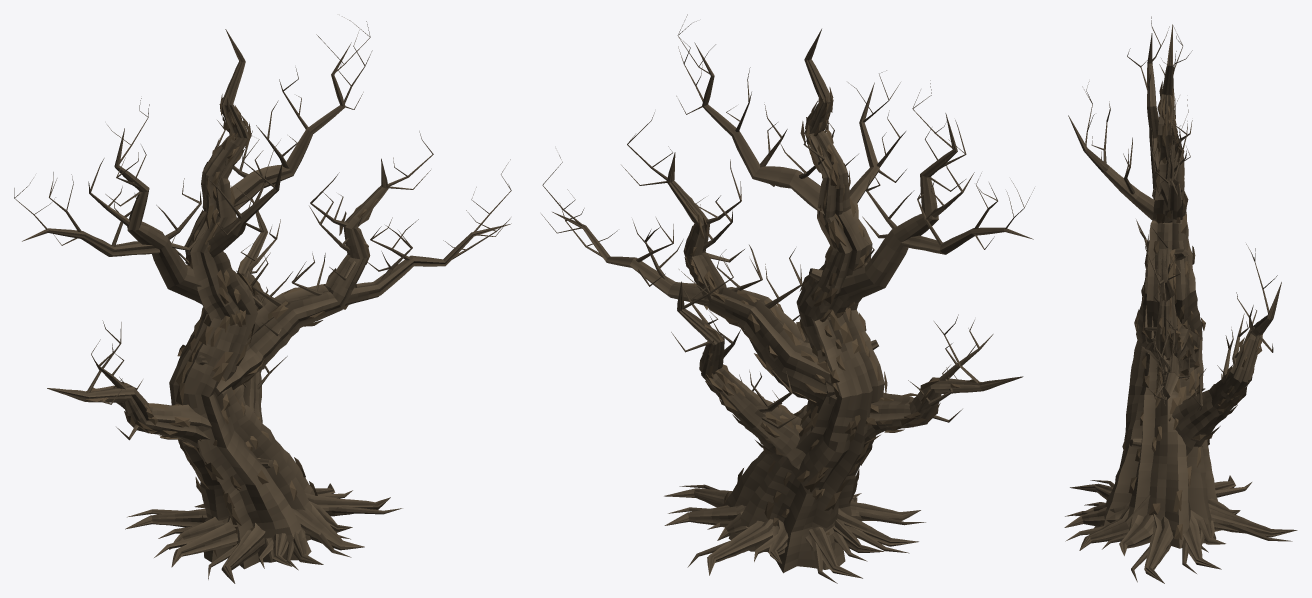
Rendered from tree.glb.
3 renders of one model, left to right at view 1: azimuth 30°, elevation 25°; view 2: azimuth 150°, elevation 25°; view 3: azimuth 270°, elevation 25°, orthographic. The views are drawn at different scales.
Visible parts, largest first — view 1: Sculpted bark roots and fine branches; view 2: Sculpted bark roots and fine branches; view 3: Sculpted bark roots and fine branches.
Part boxes in pixels (bbox=[...]): Sculpted bark roots and fine branches: bbox=[14, 16, 511, 583]; Sculpted bark roots and fine branches: bbox=[541, 14, 1034, 583]; Sculpted bark roots and fine branches: bbox=[1064, 16, 1297, 583].
Size of the model in its own units: 6.07 by 6.18 by 2.59.
